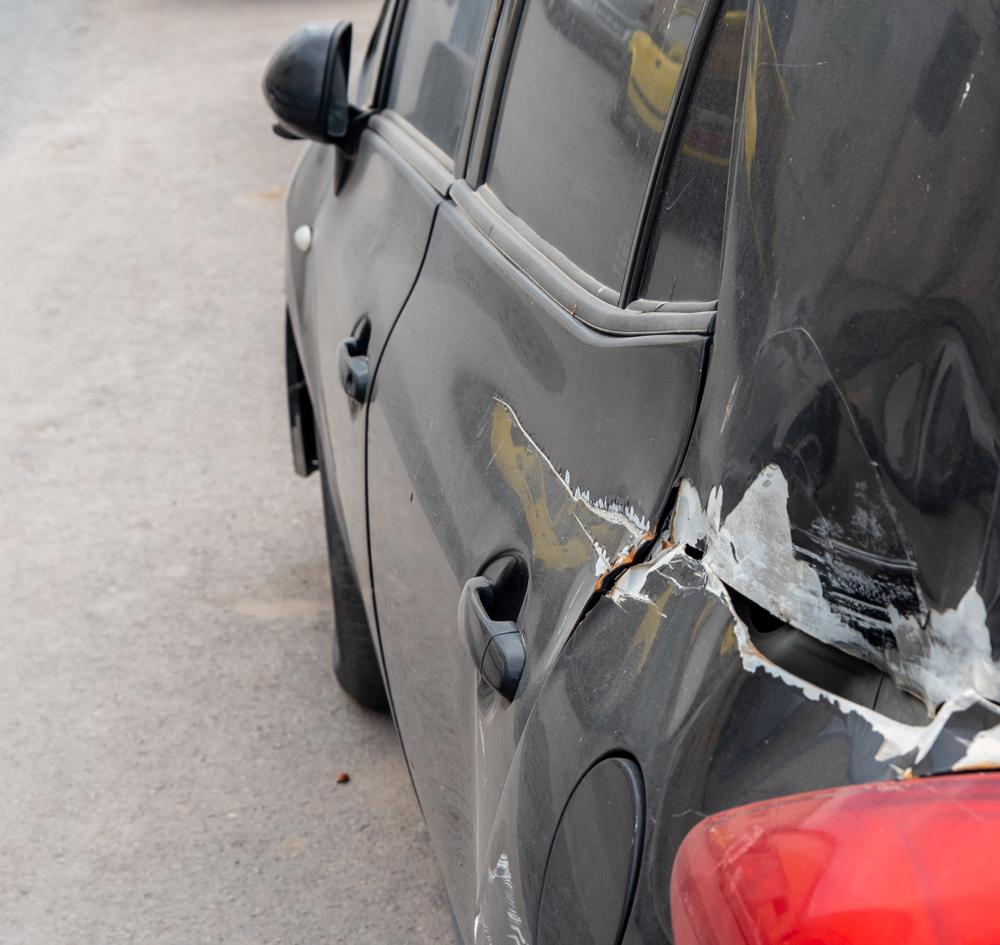crack: (715, 571, 945, 727)
dent: (712, 324, 1000, 699), (661, 658, 918, 819)
scratch: (472, 384, 650, 573), (605, 474, 730, 615), (465, 851, 526, 945)
